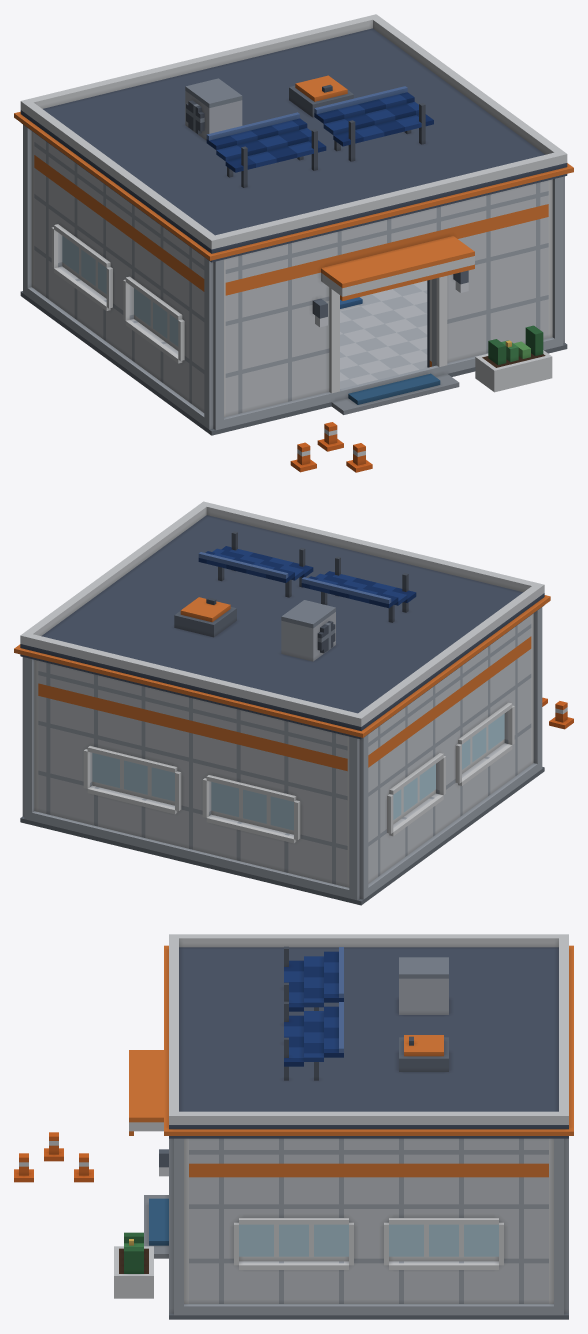
Rendered from training_e3_l1.glb.
3 renders of one model, top to bottom at view 1: azimuth 30°, elevation 25°; view 2: azimuth 150°, elevation 25°; view 3: azimuth 270°, elevation 25°, orthographic. The views are drawn at different scales.
Parts seen in each view (by area): view 1: CutRoof, CutPZ, Base, CutNX, CutNZ; view 2: CutRoof, CutNZ, Base, CutNX, CutPZ; view 3: CutRoof, CutPX, Base, CutPZ, CutNZ.
Boxes of the visible parts, bbox=[...] form: CutRoof: bbox=[14, 14, 573, 262]; CutPZ: bbox=[204, 176, 564, 391]; Base: bbox=[20, 254, 567, 472]; CutNX: bbox=[34, 133, 204, 382]; CutNZ: bbox=[23, 125, 34, 258]; CutRoof: bbox=[14, 501, 550, 739]; CutNZ: bbox=[22, 657, 368, 862]; Base: bbox=[20, 697, 573, 905]; CutNX: bbox=[368, 615, 531, 854]; CutPZ: bbox=[531, 607, 542, 735]; CutRoof: bbox=[164, 934, 573, 1138]; CutPX: bbox=[189, 1138, 548, 1272]; Base: bbox=[14, 1132, 568, 1319]; CutPZ: bbox=[129, 1050, 188, 1274]; CutNZ: bbox=[549, 1138, 568, 1274].
Bounding box in the file's own units: 8.8 × 5.2 × 11.2.
